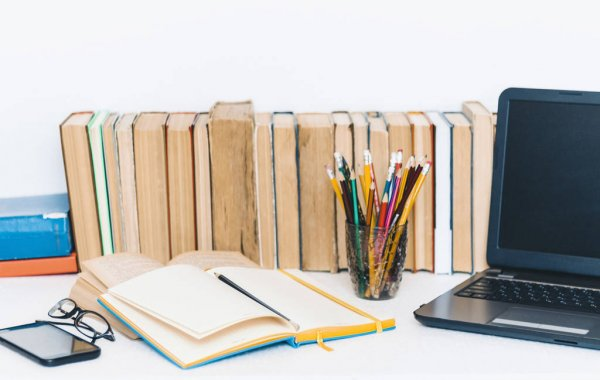Open Book: (121, 270, 392, 361), (77, 251, 259, 321)
